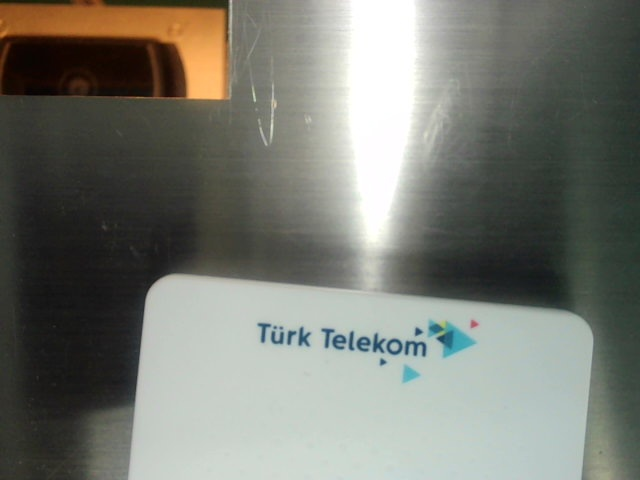AQ_TURKTelekom: (255, 291, 488, 388)
